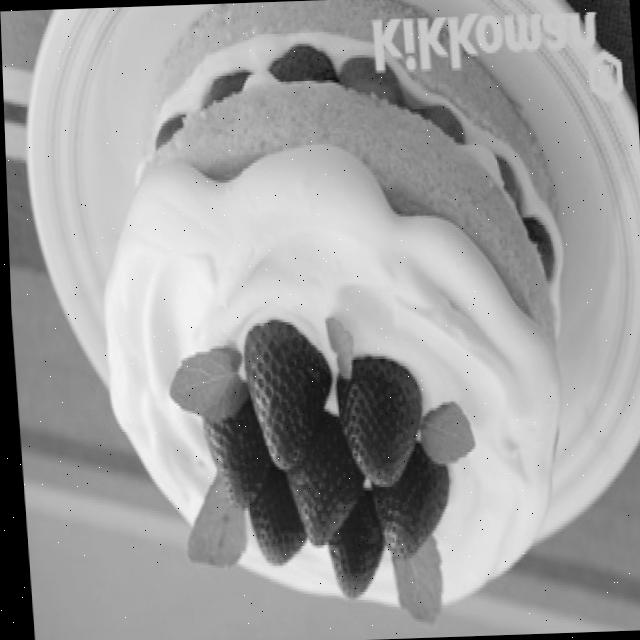蛋糕甜品: (10, 21, 638, 632)
